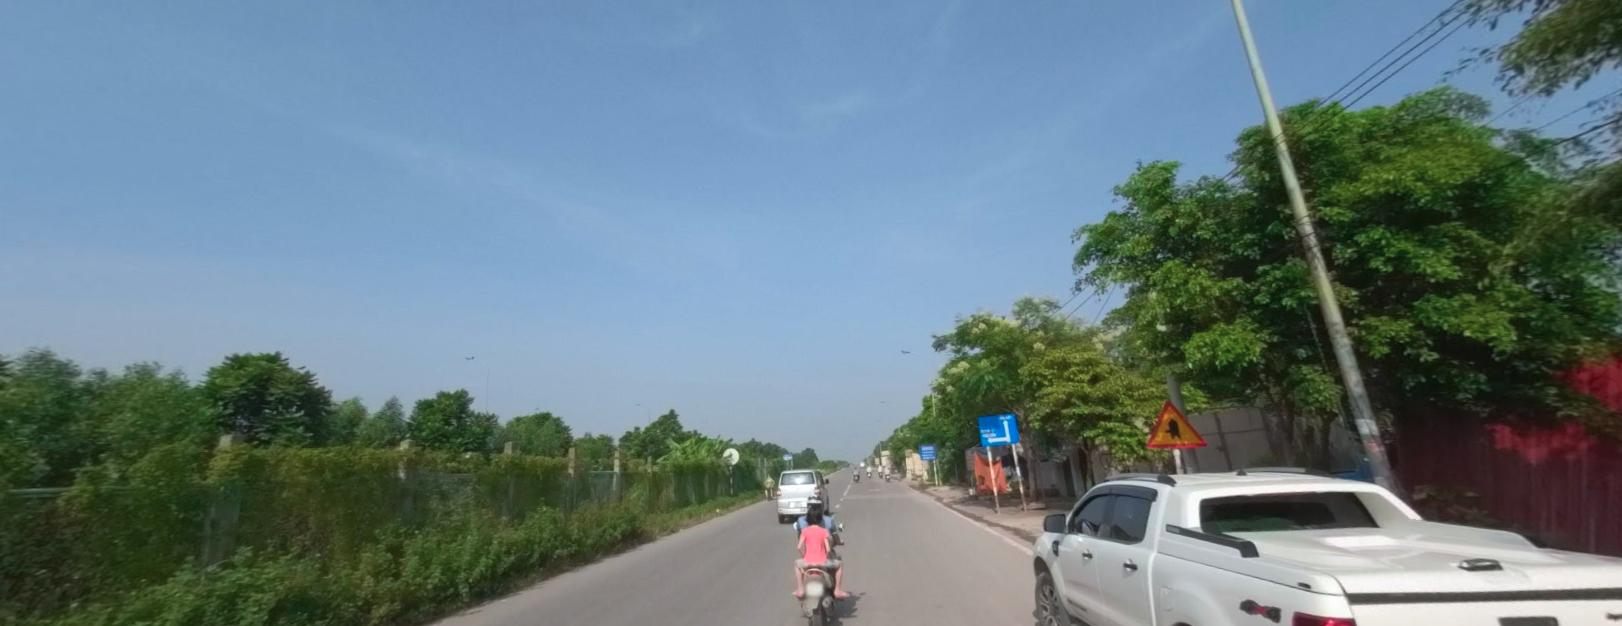Nguy hiem: (1145, 399, 1207, 446)
